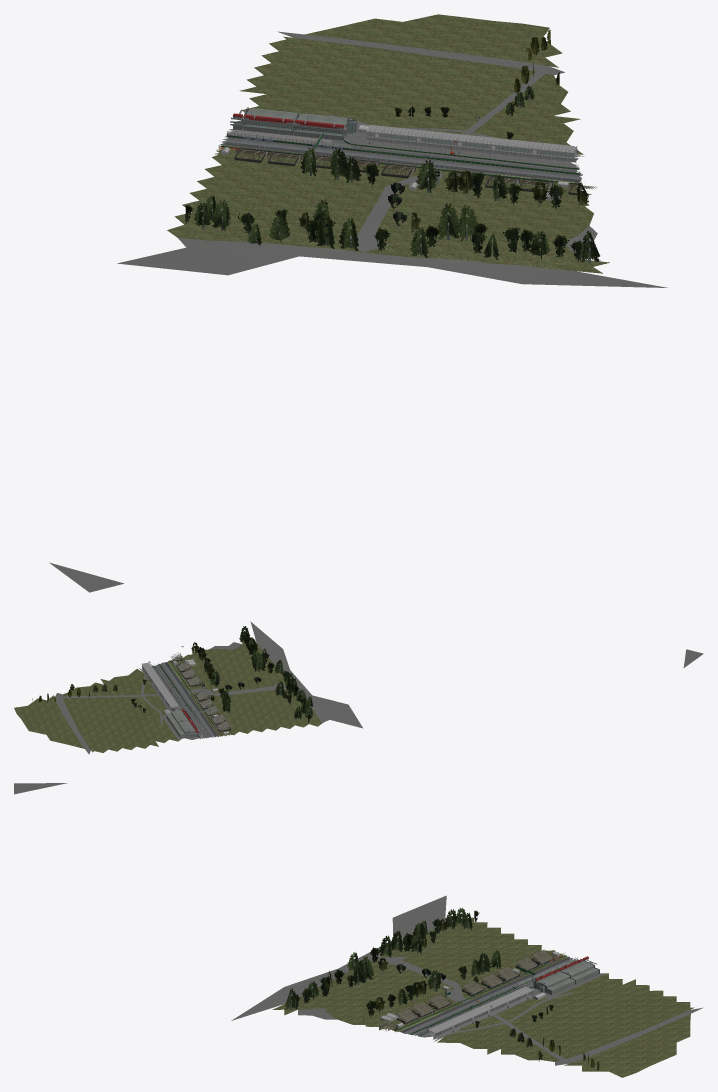
3 views of the same model, one above another, from view 1: azimuth 30°, elevation 25°; view 2: azimuth 150°, elevation 25°; view 3: azimuth 270°, elevation 25° (orthographic). The views are drawn at different scales.
Visible parts, largest first — view 1: tile_t07; view 2: tile_t07; view 3: tile_t07.
Boxes of the visible parts, x1,y1,x2,y2 form: tile_t07: (49,14,667,592); tile_t07: (14,621,703,754); tile_t07: (14,783,703,1077).
Size of the model in its own units: 832 by 38.74 by 816.
Materials: 41 (40 with a texture image).
